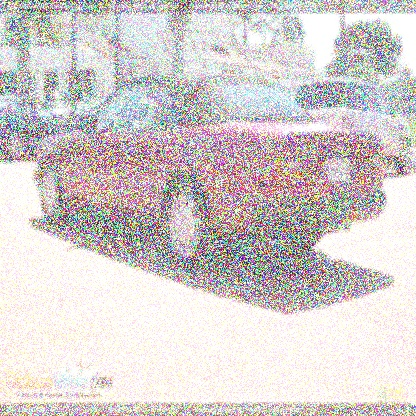Vehicle: (34, 77, 390, 270)
